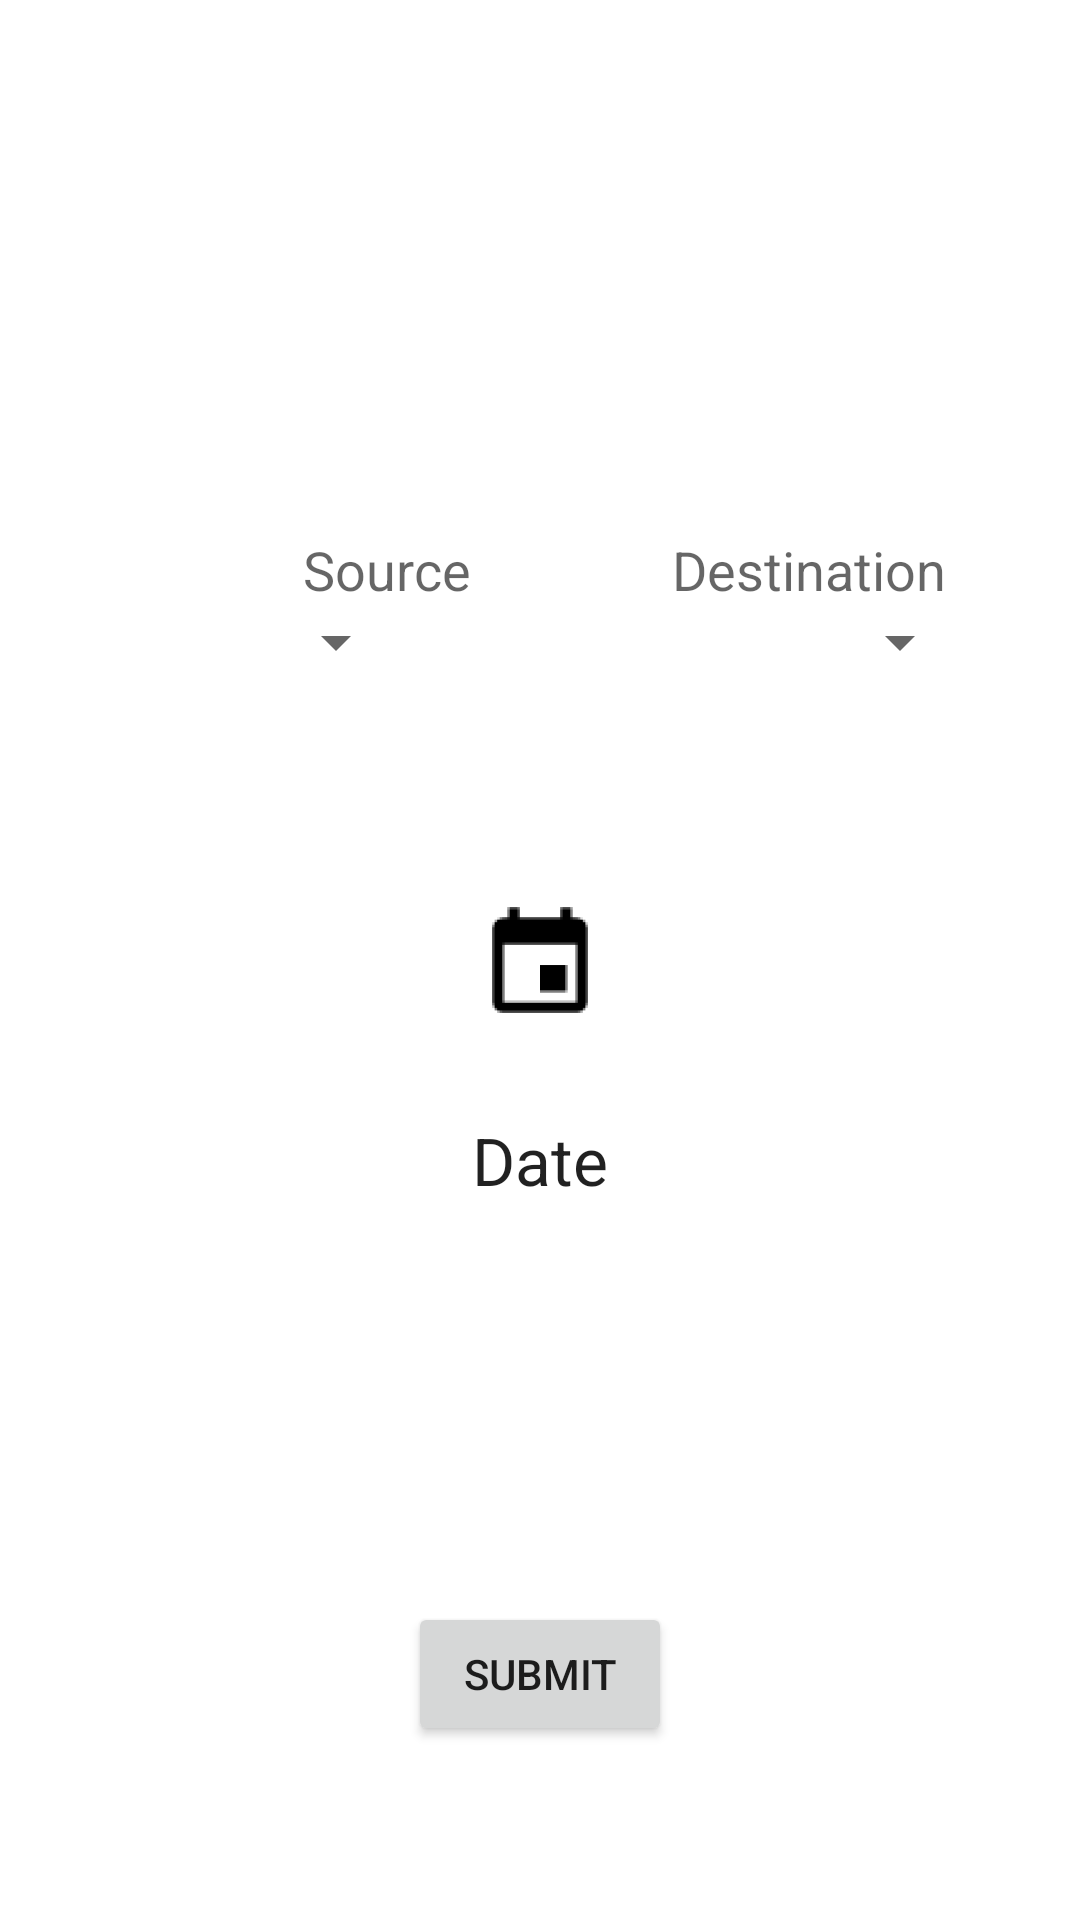

Icon bounding boxes for this 1080 × 1920 phone screenshot, format (x1, y1, x2, y2):
calendar: (492, 907, 588, 1013)
